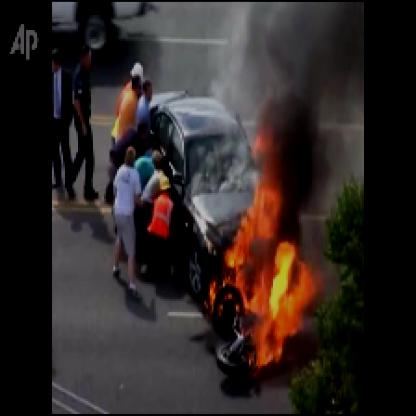Fire: (202, 121, 325, 377)
Smoke: (271, 2, 353, 206)
